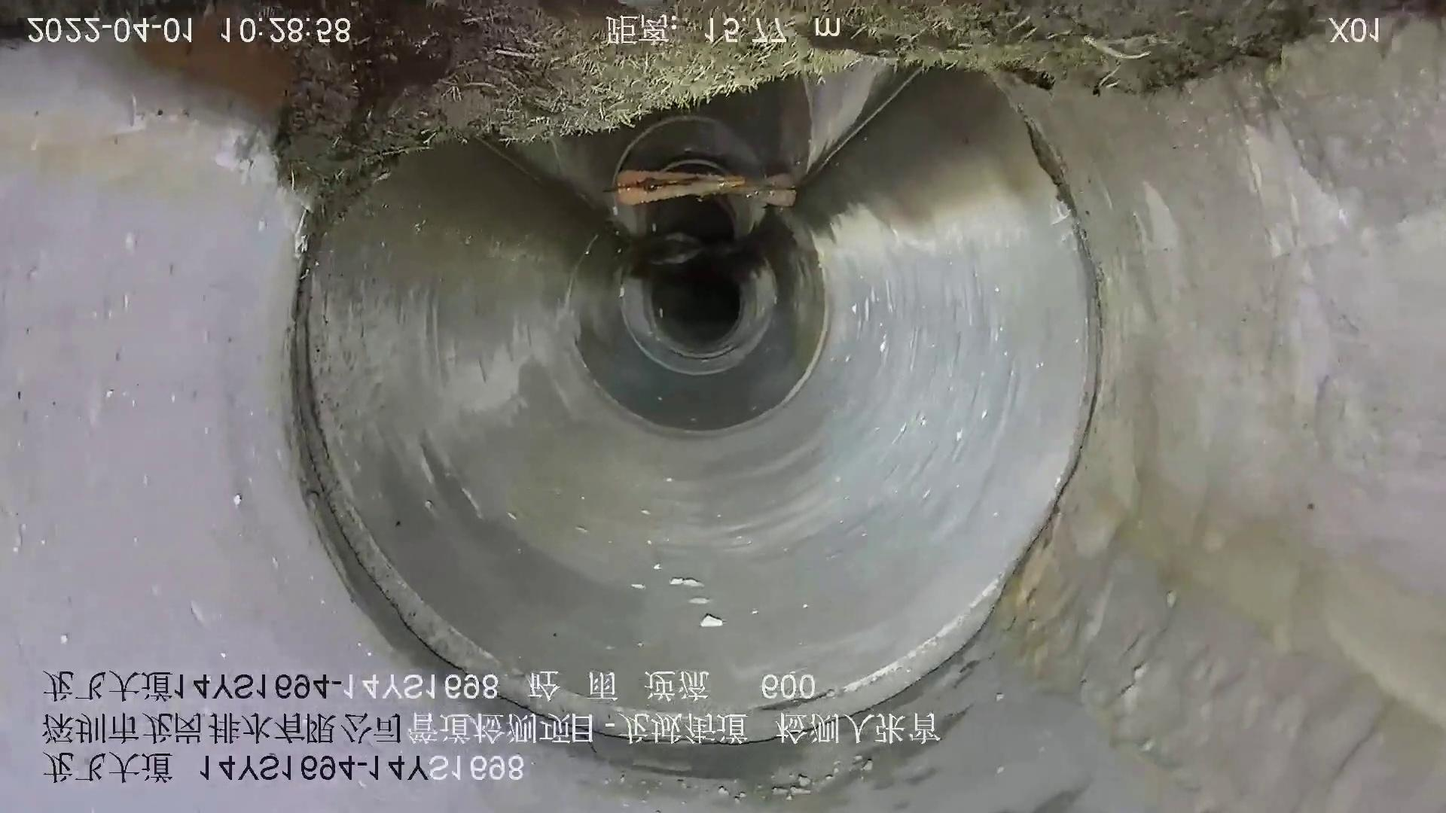CJ: (279, 1, 1445, 199)
CKTJ: (291, 265, 1008, 744)
